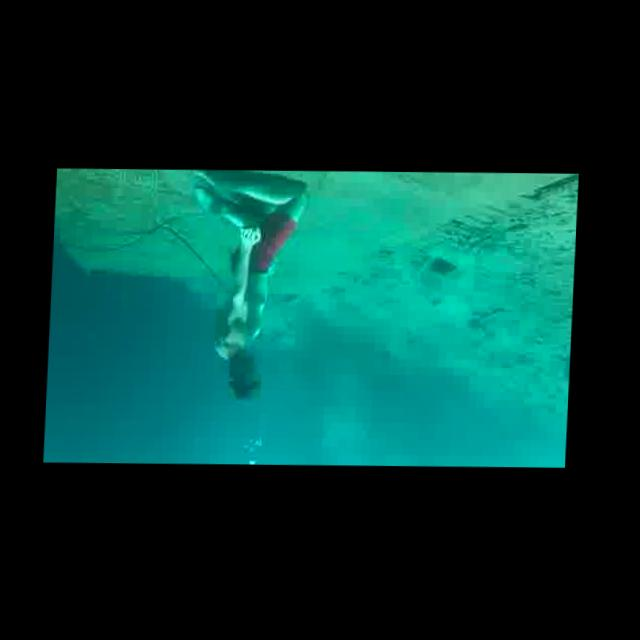human: (176, 169, 313, 409)
